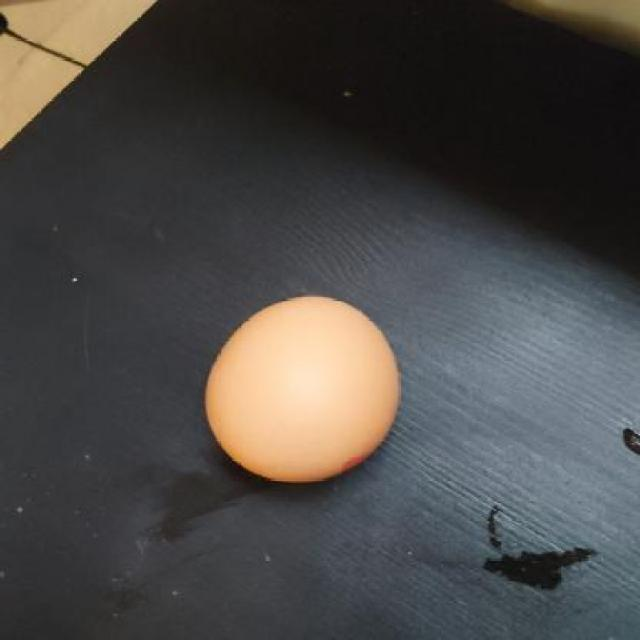biodegradable: (198, 293, 406, 487)
